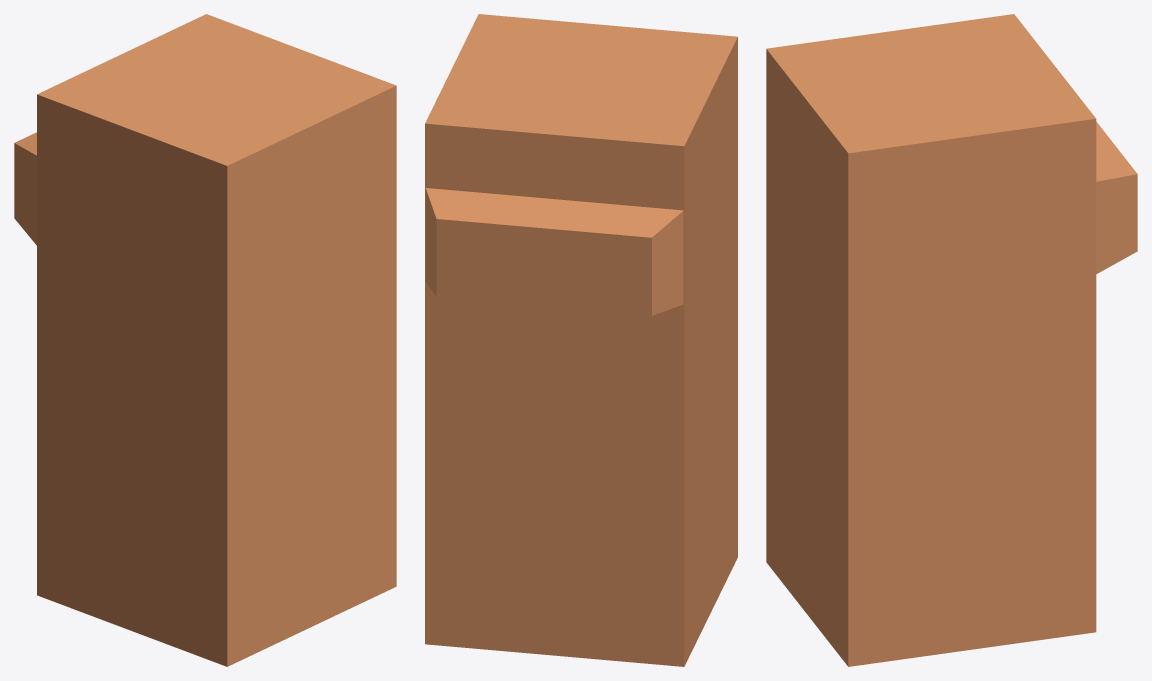
The model's file is jugador.fbx.
3 views of the same model, side by side, from view 1: azimuth 30°, elevation 25°; view 2: azimuth 150°, elevation 25°; view 3: azimuth 270°, elevation 25° (orthographic). The views are drawn at different scales.
Parts seen in each view (by area): view 1: PosJug1.001; view 2: PosJug1.001; view 3: PosJug1.001.
Part boxes in pixels (left/top/right/bottom): PosJug1.001: left=14, top=14, right=396, bottom=666; PosJug1.001: left=425, top=14, right=737, bottom=666; PosJug1.001: left=766, top=14, right=1137, bottom=666.
Bounding box in the file's own units: 253 × 434 × 284.
